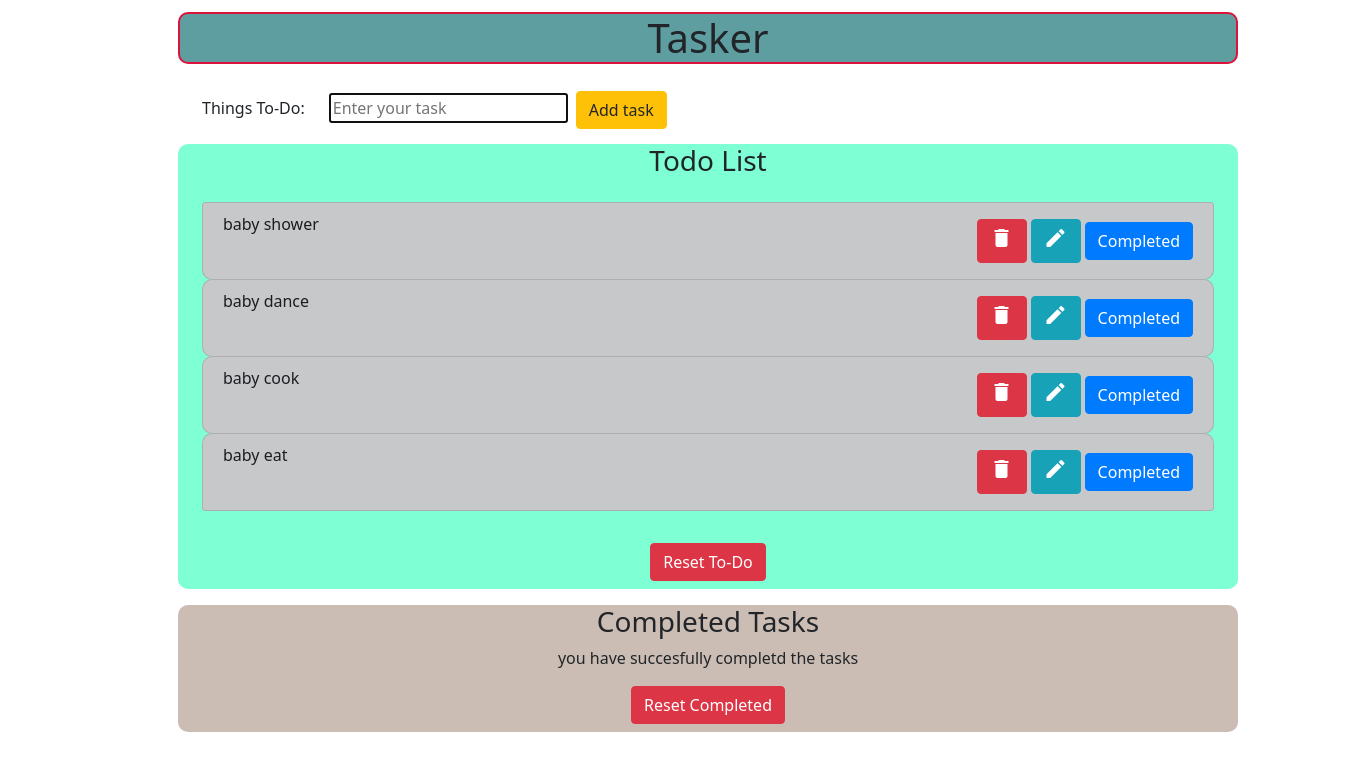
it: Todo app testing › deleting the task
Step 1. Click the 5th icon "delete" → (1002, 392), box [990, 380, 1014, 404]
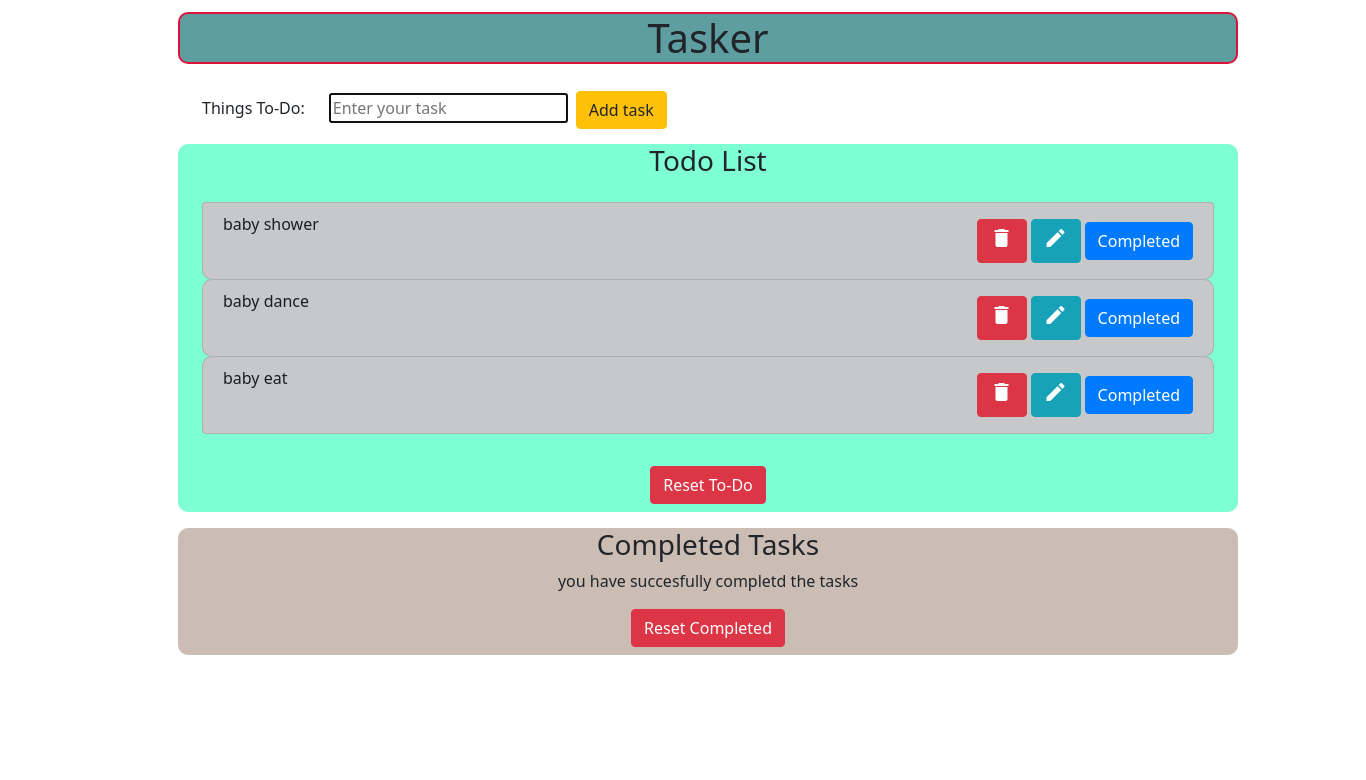
Now the number of list items with test id "todo-list" is 3, box [202, 202, 1214, 280]; [202, 279, 1214, 357]; [202, 356, 1214, 434]
